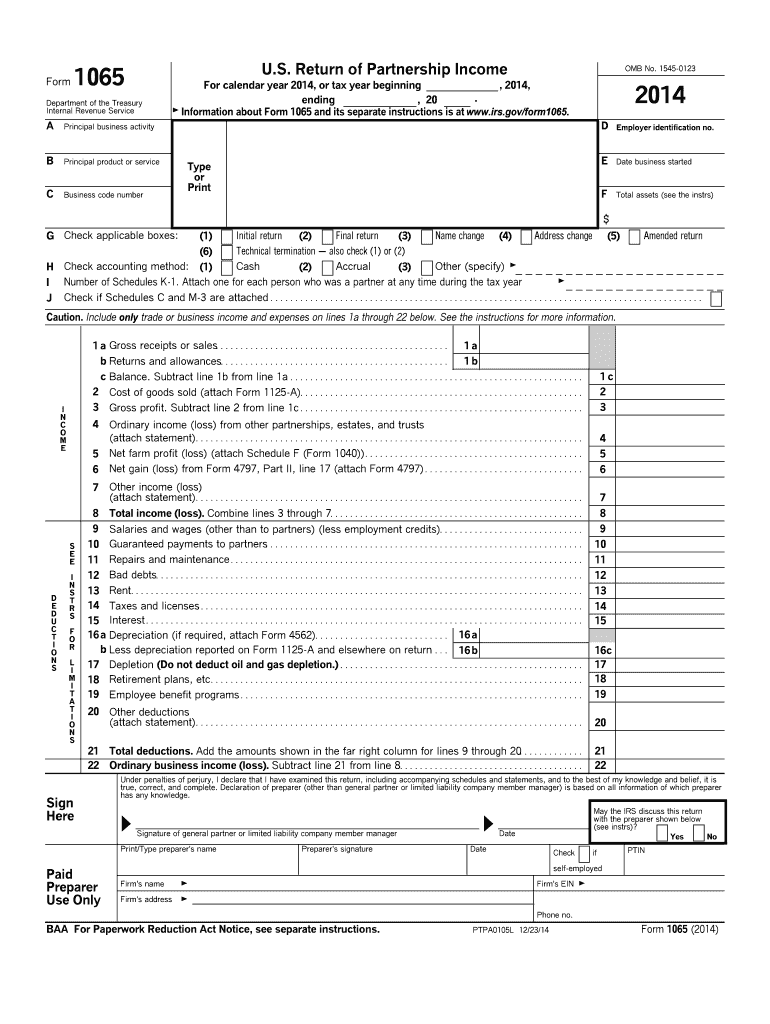checkbox: (218, 225, 236, 248), (217, 240, 235, 263), (217, 256, 235, 279), (318, 255, 336, 278), (318, 224, 336, 247), (417, 224, 435, 247), (517, 223, 535, 246), (625, 224, 643, 247), (417, 255, 435, 278), (707, 287, 725, 310), (690, 821, 708, 844), (653, 821, 671, 844), (575, 842, 593, 865)
textbox: (222, 116, 601, 231), (610, 320, 729, 387), (176, 872, 535, 894), (177, 885, 536, 907), (531, 887, 728, 926), (38, 180, 175, 232), (113, 841, 301, 878), (294, 840, 470, 878), (594, 182, 730, 230), (39, 117, 175, 156), (39, 150, 175, 189), (593, 117, 729, 156), (593, 150, 729, 189), (610, 623, 731, 663), (612, 409, 728, 449), (611, 723, 727, 763), (610, 471, 728, 509), (610, 696, 731, 733), (620, 840, 731, 879), (476, 320, 591, 356), (529, 873, 730, 893), (462, 839, 553, 878), (610, 500, 730, 525), (610, 515, 730, 540), (611, 531, 731, 556), (610, 546, 730, 571), (611, 563, 731, 588), (609, 577, 729, 602), (611, 592, 731, 617), (611, 607, 731, 632), (610, 652, 730, 677), (608, 666, 728, 691), (611, 681, 731, 706), (610, 752, 730, 777), (611, 441, 731, 465), (610, 457, 730, 481), (476, 349, 591, 372), (612, 379, 727, 402), (612, 395, 727, 418), (475, 625, 589, 645), (476, 641, 590, 661)
textline: (133, 813, 479, 830), (507, 258, 727, 276), (557, 275, 728, 292), (494, 814, 591, 830), (424, 76, 498, 93), (342, 90, 416, 107), (441, 92, 475, 107)
